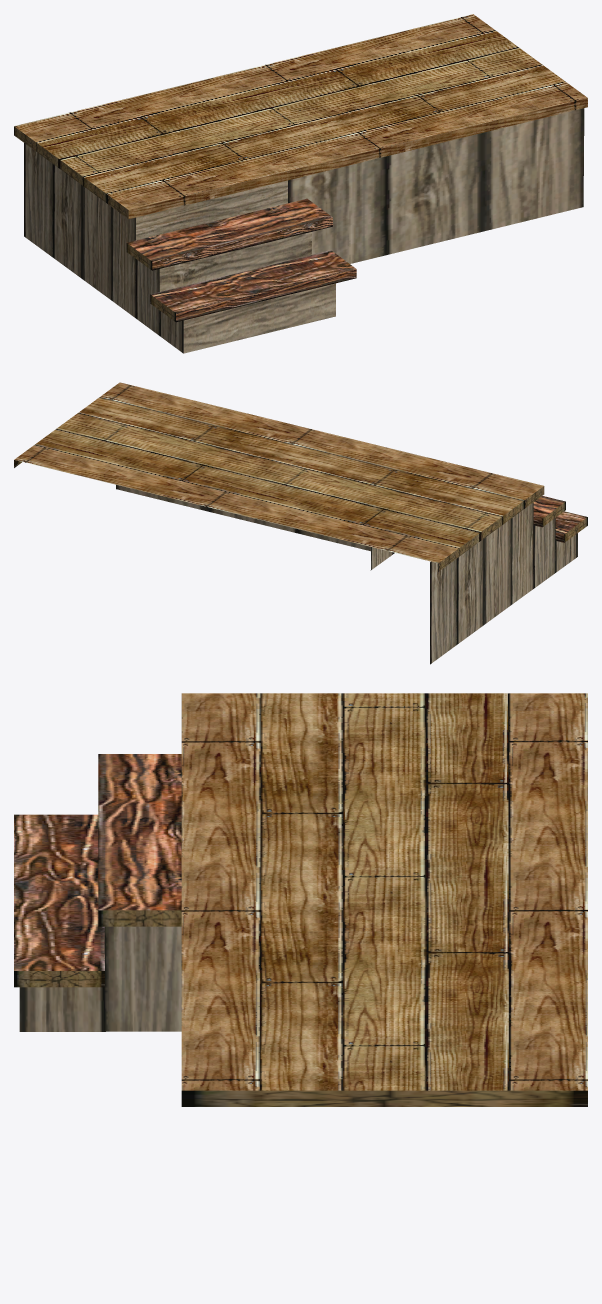
File: LAKETOWN_GENHOUSE1_PS_GH1_STAIR44.fbx
3 renders of one model, top to bottom at view 1: azimuth 30°, elevation 25°; view 2: azimuth 150°, elevation 25°; view 3: azimuth 270°, elevation 25°, orthographic. The views are drawn at different scales.
Parts seen in each view (by area): view 1: LAKETOWN_GENHOUSE1_PS_GH1_STAIR44; view 2: LAKETOWN_GENHOUSE1_PS_GH1_STAIR44; view 3: LAKETOWN_GENHOUSE1_PS_GH1_STAIR44.
Part boxes in pixels (<box>): LAKETOWN_GENHOUSE1_PS_GH1_STAIR44: <box>14,14,587,353</box>; LAKETOWN_GENHOUSE1_PS_GH1_STAIR44: <box>14,382,587,664</box>; LAKETOWN_GENHOUSE1_PS_GH1_STAIR44: <box>14,693,587,1106</box>.
Bounding box in the file's own units: 37330 × 8729 × 22747.
5 materials, 5 textured.
